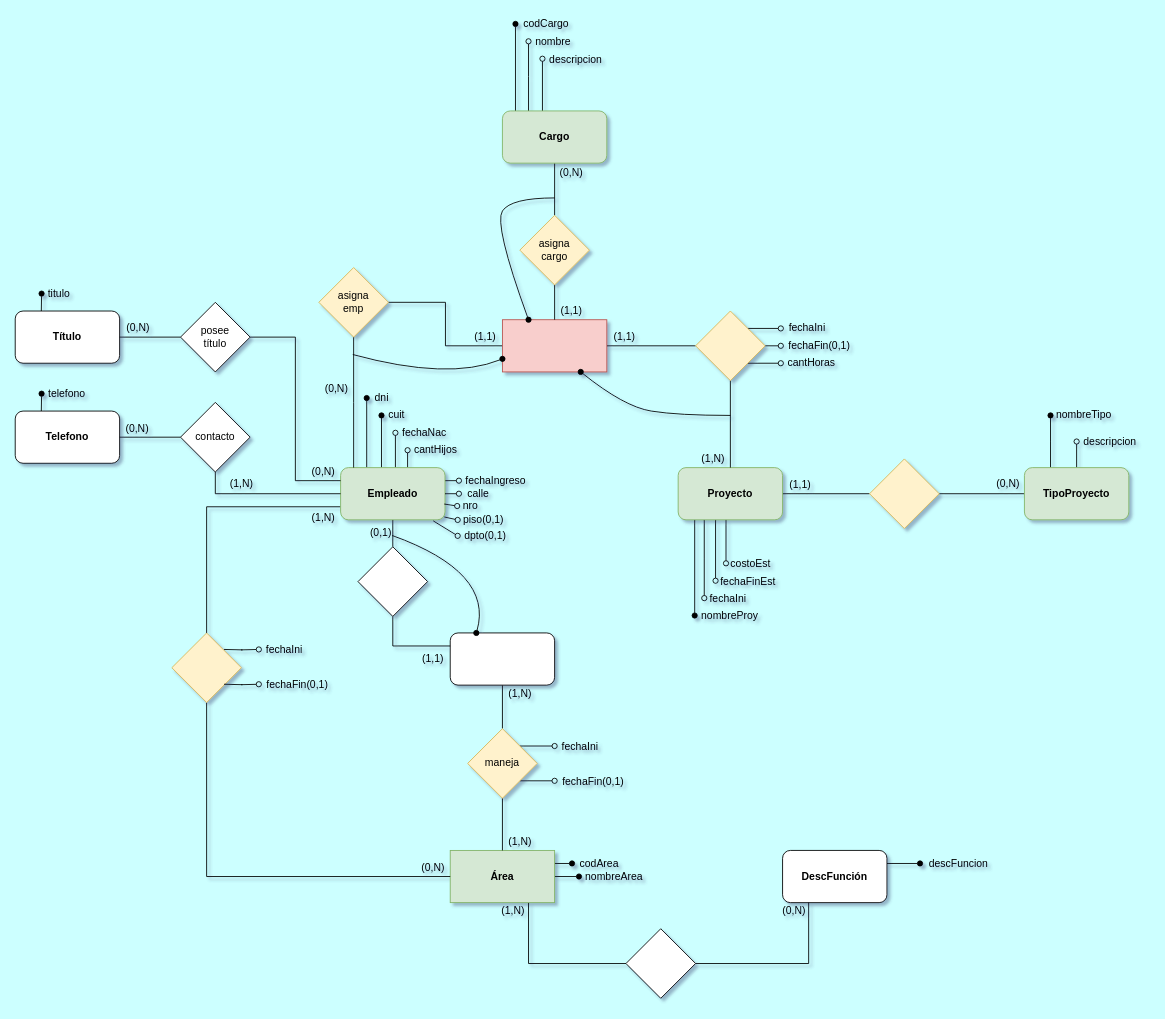
Image size: 1165x1019. Some labels were removed from this diagram. Each missing label, with the centre of its shape:
"asigna proyecto" goes at (x=730, y=345).
"Asignación" goes at (x=554, y=345).
"es tipo" goes at (x=904, y=493).
"es_gerente" goes at (x=392, y=581).
"Gerente" goes at (x=502, y=658).
"posee función" goes at (x=660, y=963).
"trabaja" goes at (x=206, y=667).
